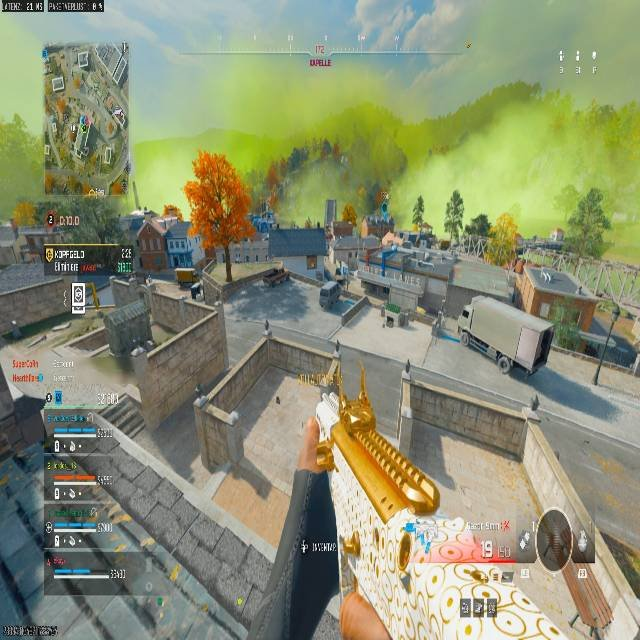player: (185, 185, 236, 286), (442, 190, 466, 241), (189, 268, 205, 299)
